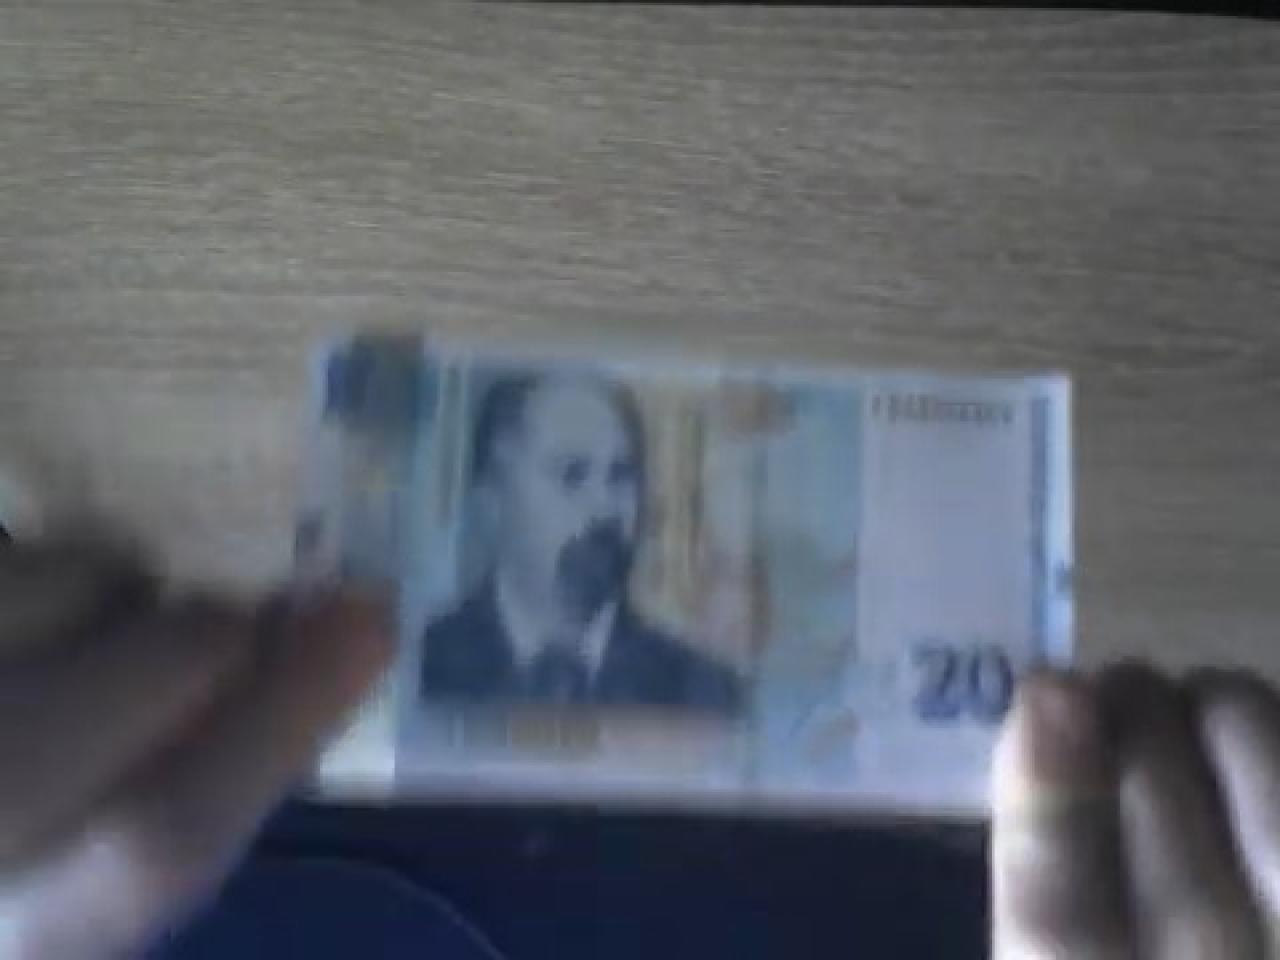20leva: (462, 368, 643, 701)
